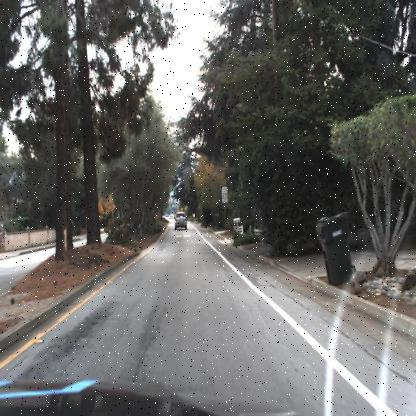car: (171, 208, 189, 232)
